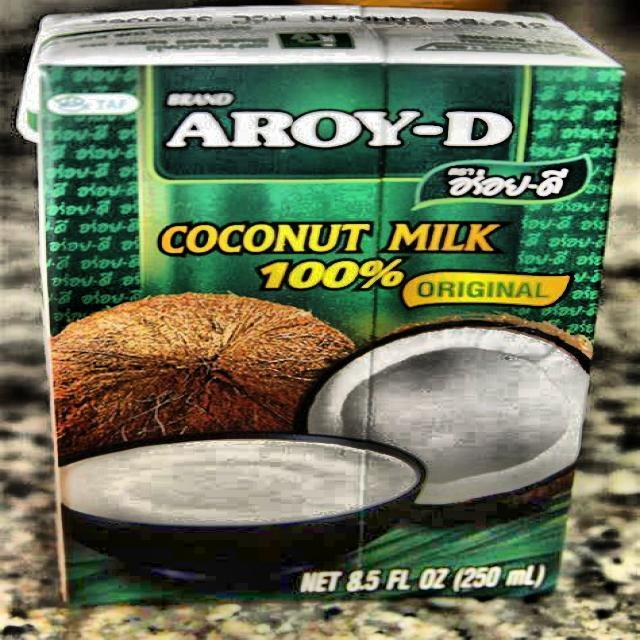cardboard: (19, 4, 625, 606)
